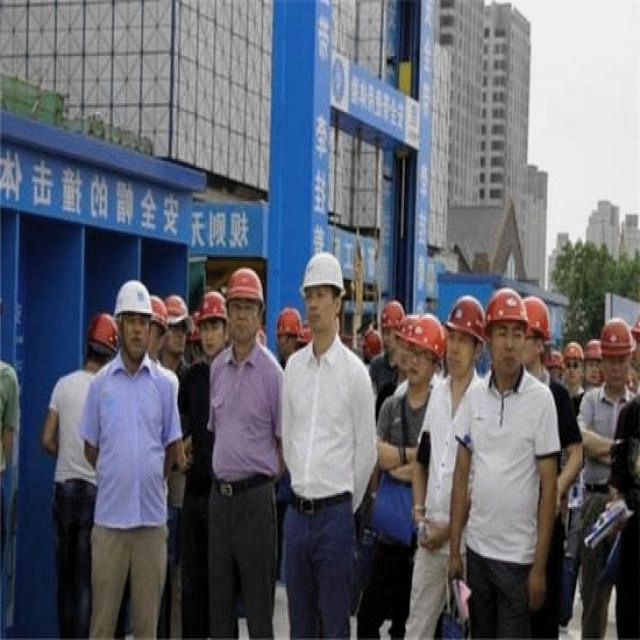Sin_Chaleco: (283, 337, 374, 515), (209, 342, 281, 477)
